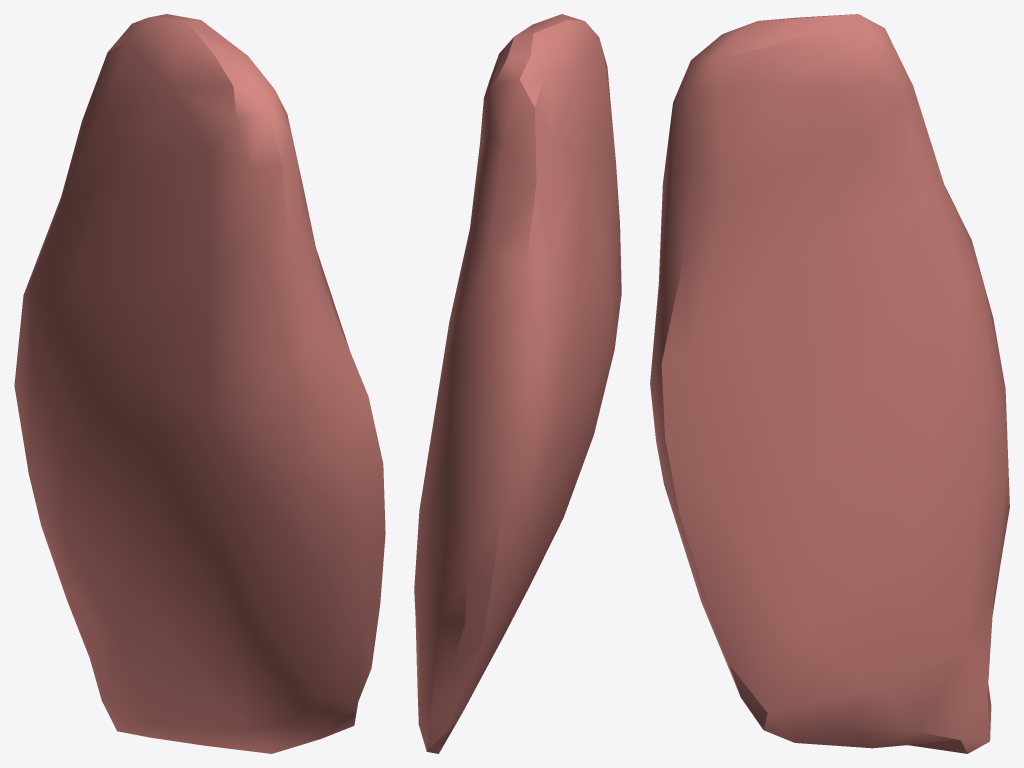
The model's file is fma81578_mm2380m.glb.
3 renders of one model, left to right at view 1: azimuth 30°, elevation 25°; view 2: azimuth 150°, elevation 25°; view 3: azimuth 270°, elevation 25°, orthographic. The views are drawn at different scales.
Parts seen in each view (by area): view 1: FMA81578_MM2380M; view 2: FMA81578_MM2380M; view 3: FMA81578_MM2380M.
Boxes of the visible parts, left/top/right/bottom form: FMA81578_MM2380M: left=14, top=14, right=385, bottom=753; FMA81578_MM2380M: left=414, top=14, right=621, bottom=753; FMA81578_MM2380M: left=650, top=14, right=1009, bottom=753.
Size of the model in its own units: 0.00635 by 0.0201 by 0.00913.
